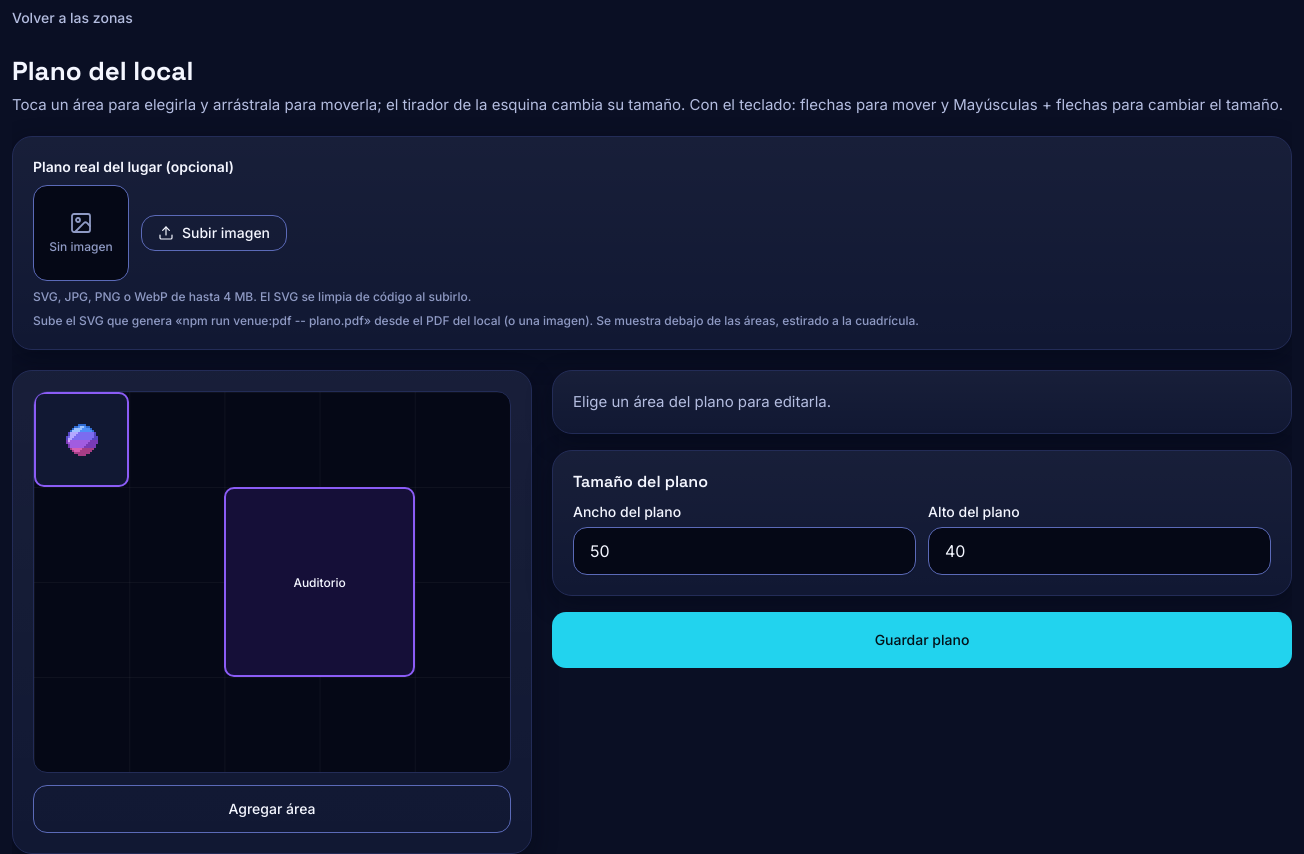
Test: VenueEditor › explains a refusal, and an action that throws
The image size is (1304, 854).
Click the button "Guardar plano": (922, 640) [552, 612, 1292, 668]
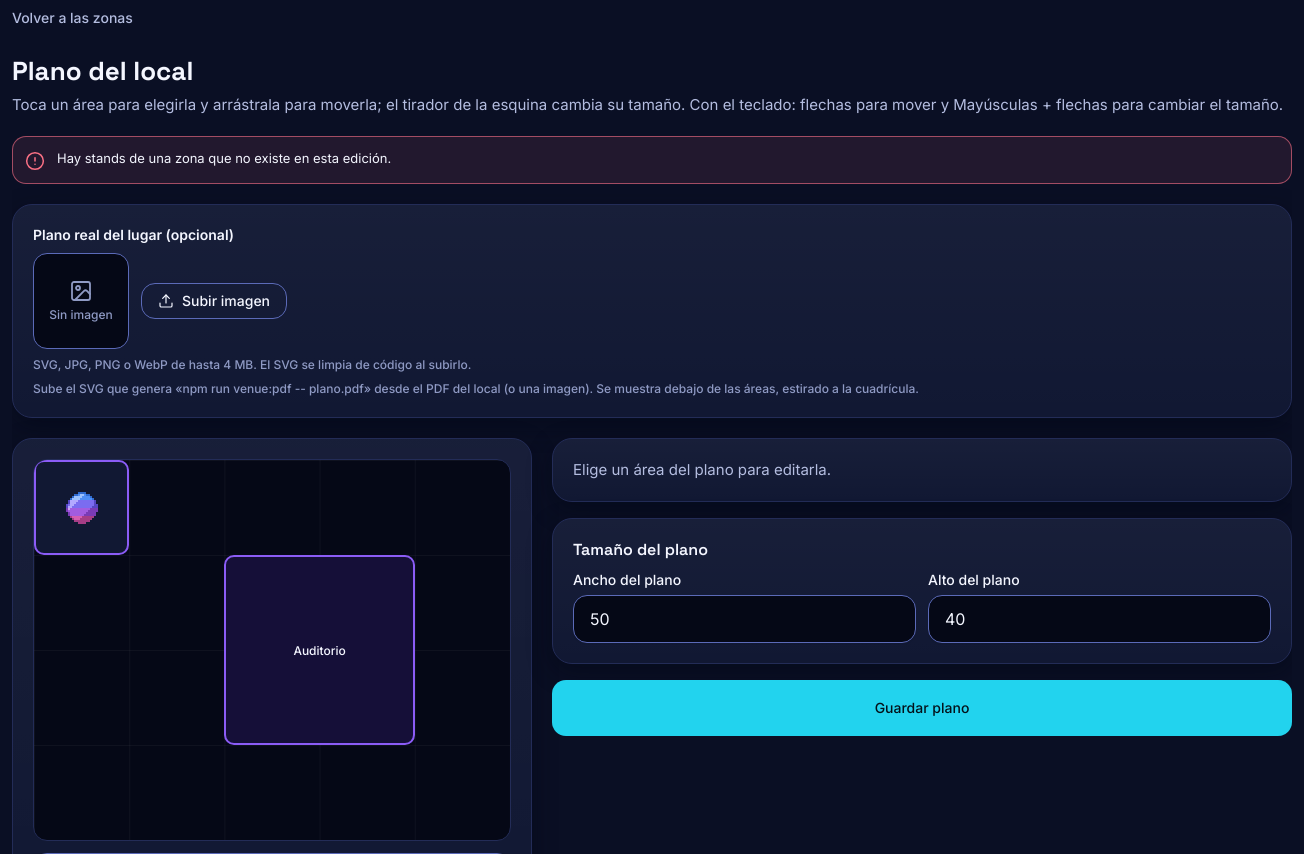
Expected: the message reads "Hay stands de una zona que no existe en esta edición.", [57, 150, 391, 166]
Click the button "Guardar plano": (922, 708) [552, 680, 1292, 736]
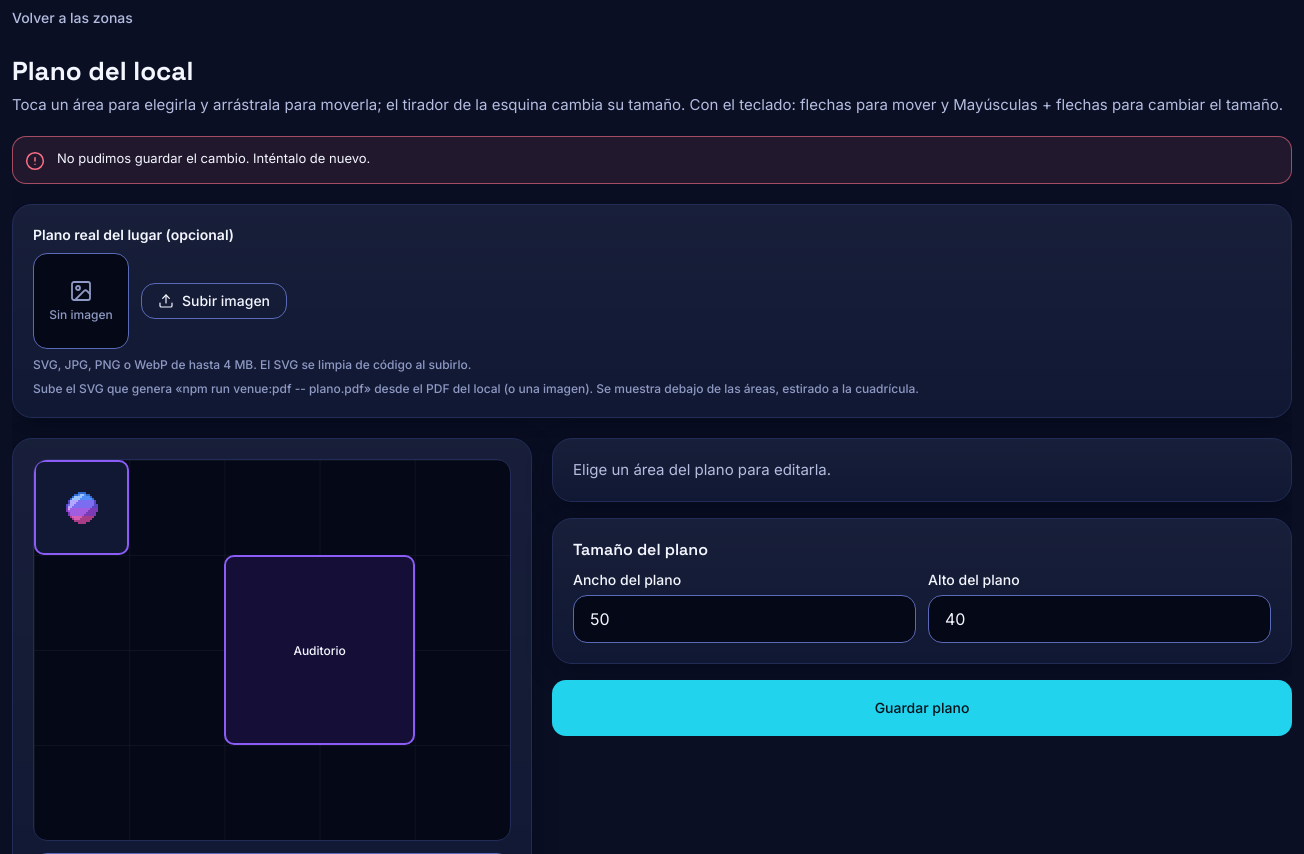
Expected: the message reads "No pudimos guardar el cambio. Inténtalo de nuevo.", [57, 150, 370, 166]
